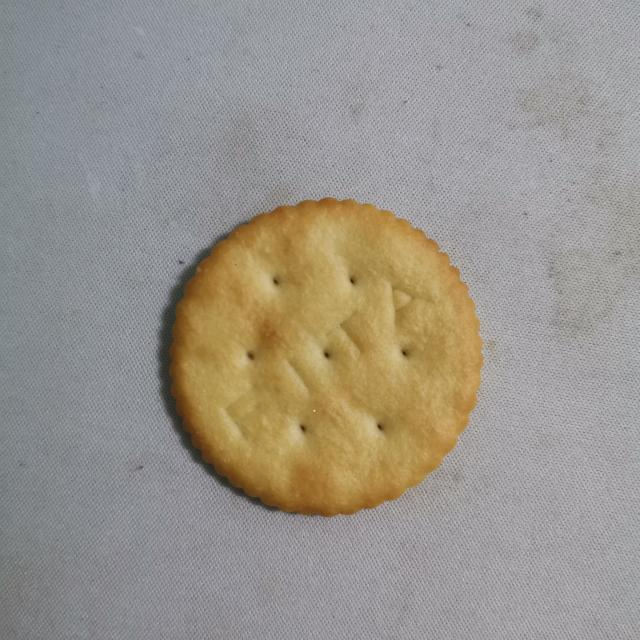Intact: (157, 192, 489, 527)
